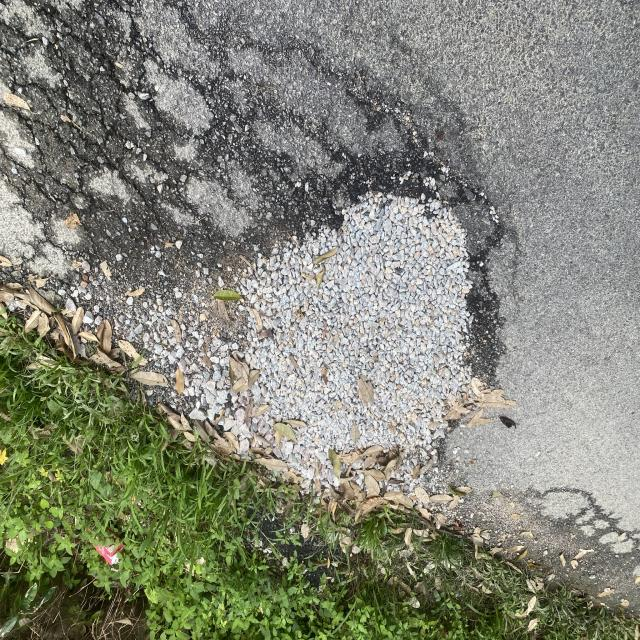Pothole: (133, 98, 555, 508)
